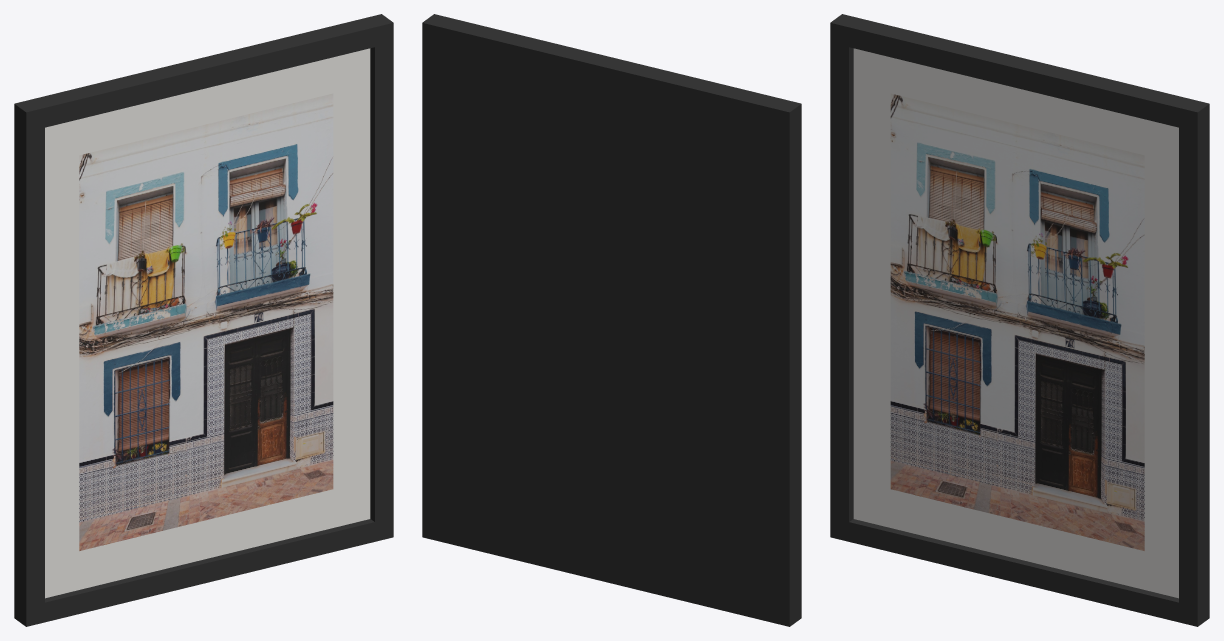
Rendered from nummer79-40.gltf.
3 renders of one model, left to right at view 1: azimuth 30°, elevation 25°; view 2: azimuth 150°, elevation 25°; view 3: azimuth 330°, elevation 25°, orthographic.
Parts seen in each view (by area): view 1: tavla; view 2: tavla; view 3: tavla.
Boxes of the visible parts, x1,y1,x2,y2 form: tavla: [14, 14, 393, 626]; tavla: [422, 14, 801, 626]; tavla: [830, 14, 1209, 626].
Size of the model in its own units: 0.3887 by 0.52 by 0.022.
Materials: 3 (1 with a texture image).
